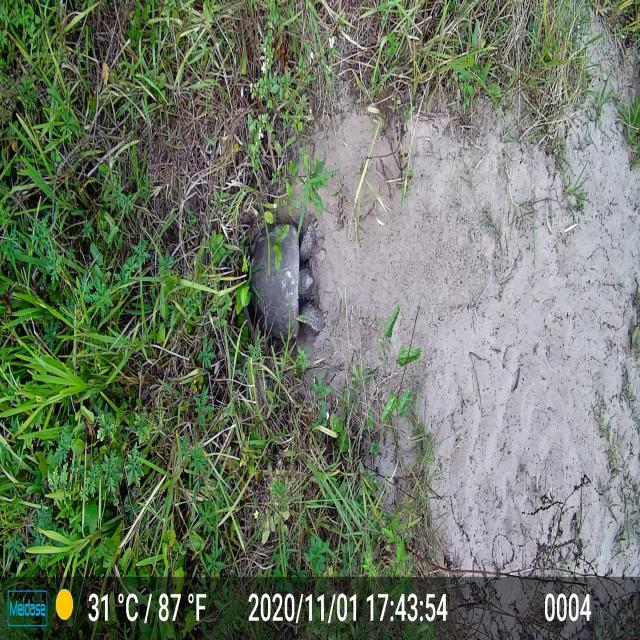tortoise: (242, 214, 323, 348)
